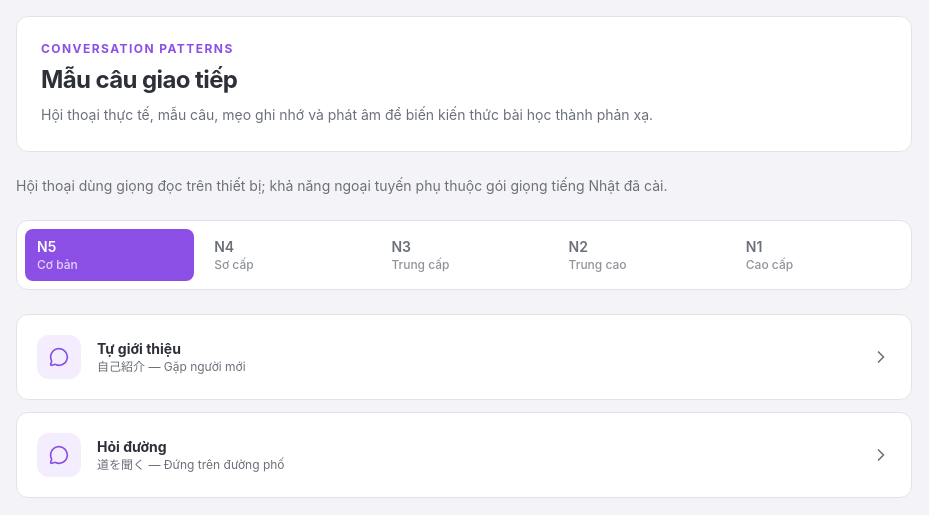
Conversations Page › level selector › switches to N4 conversations on click
Click the radio button labelled "N4 Sơ cấp": click(287, 255) 202,229 -> 371,281
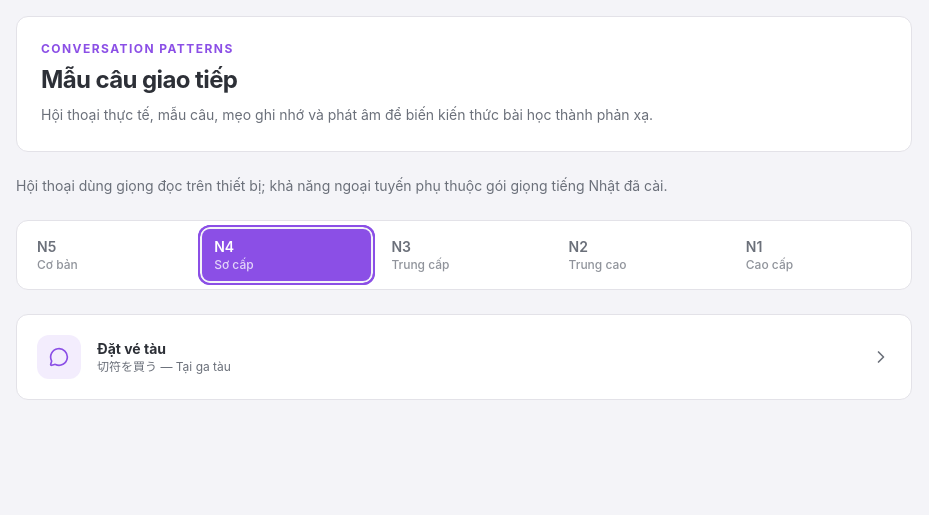
Check: the heading "Đặt vé tàu" is shown, box 97,340 -> 166,357
Check: the button "Tự giới thiệu" is gone
